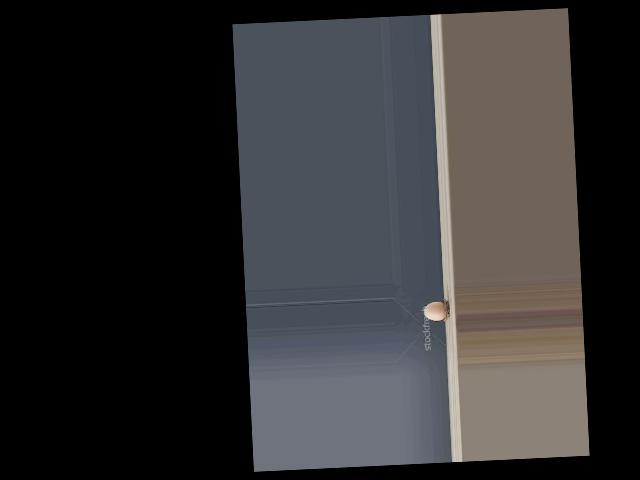egg: (423, 300, 445, 320)
